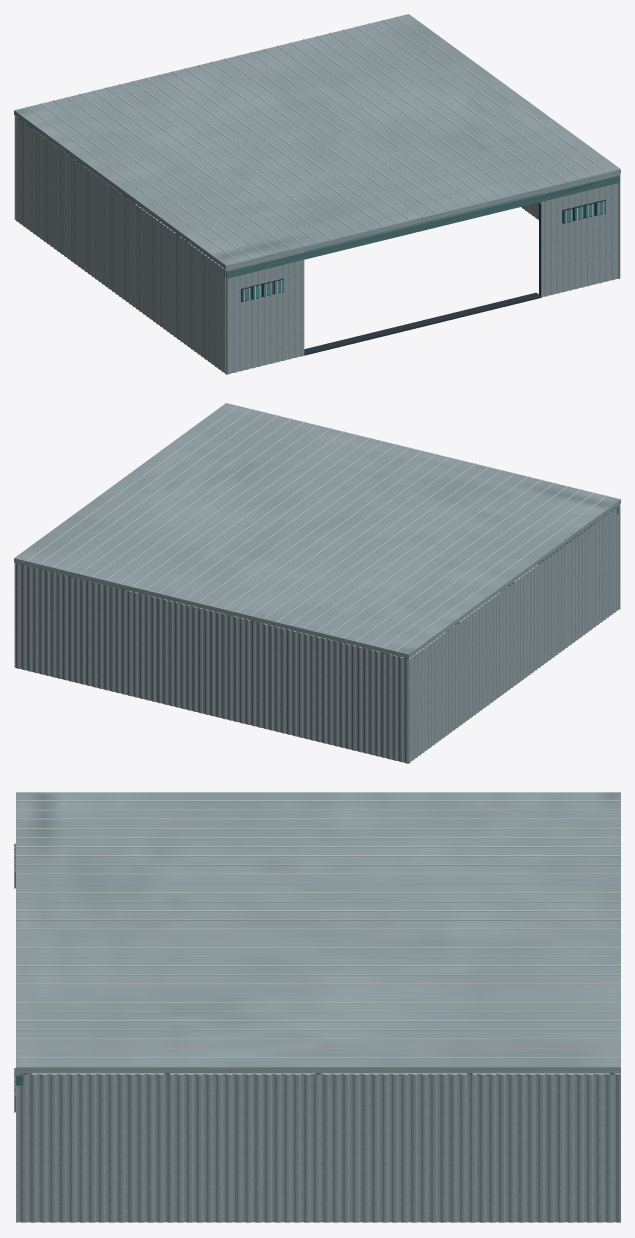
File: HangarNine.glb
3 views of the same model, one above another, from view 1: azimuth 30°, elevation 25°; view 2: azimuth 150°, elevation 25°; view 3: azimuth 270°, elevation 25° (orthographic). The views are drawn at different scales.
Parts seen in each view (by area): view 1: Roof skin, Corrugated wall, Front wing.001, Front wing, Door track, Threshold; view 2: Roof skin, Rear cladding, Corrugated wall; view 3: Roof skin, Corrugated wall.001, Standing seam, Standing seam.001, Standing seam.002, Standing seam.003, Standing seam.004, Standing seam.005, Standing seam.006, Standing seam.007, Standing seam.008, Standing seam.009 (+19 smaller).
Part boxes in pixels (bbox=[...]): Roof skin: bbox=[14, 14, 620, 269]; Corrugated wall: bbox=[15, 116, 227, 374]; Front wing.001: bbox=[541, 174, 620, 296]; Front wing: bbox=[225, 251, 304, 374]; Door track: bbox=[224, 175, 620, 278]; Threshold: bbox=[304, 292, 541, 355]; Roof skin: bbox=[14, 403, 620, 658]; Rear cladding: bbox=[14, 563, 409, 763]; Corrugated wall: bbox=[407, 505, 619, 763]; Roof skin: bbox=[16, 792, 620, 1073]; Corrugated wall.001: bbox=[16, 1074, 620, 1222]; Standing seam: bbox=[16, 800, 620, 801]; Standing seam.001: bbox=[16, 809, 620, 810]; Standing seam.002: bbox=[16, 818, 620, 819]; Standing seam.003: bbox=[16, 828, 620, 829]; Standing seam.004: bbox=[16, 837, 620, 838]; Standing seam.005: bbox=[16, 846, 620, 847]; Standing seam.006: bbox=[16, 855, 620, 856]; Standing seam.007: bbox=[16, 864, 620, 865]; Standing seam.008: bbox=[16, 873, 620, 874]; Standing seam.009: bbox=[16, 883, 620, 884].
Size of the model in its own units: 30 by 8 by 28.
7 materials, 7 textured.
